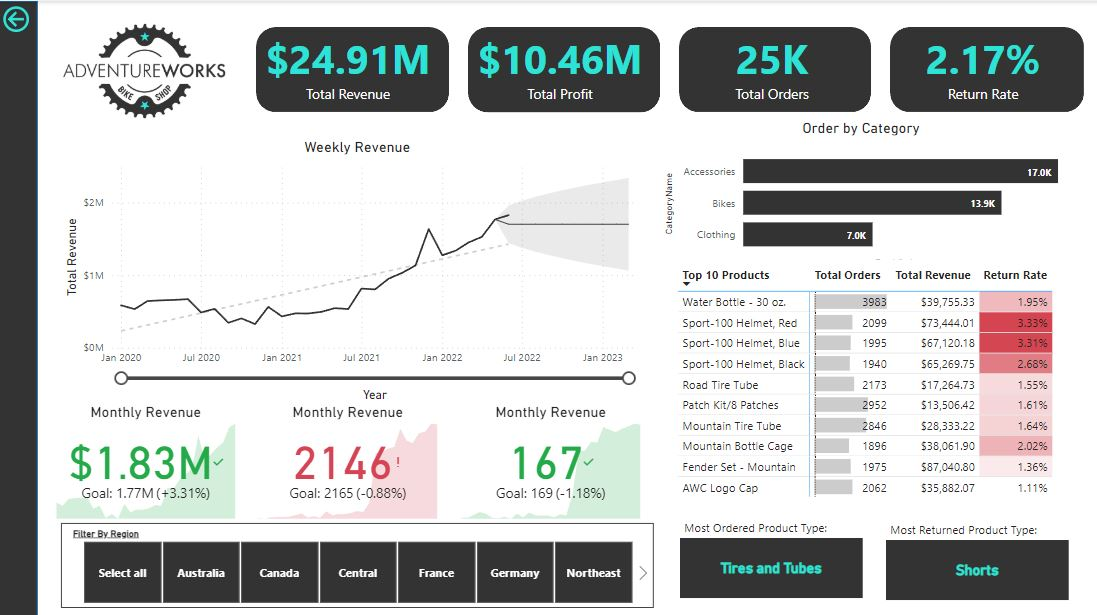

The dashboard page shown, as its layout file describes it:
{"tool":"powerbi","page":{"name":"Exec Summary","canvas":[1280,720],"ordinal":0},"visuals":[{"type":"card","fields":{"Values":["AW_Sales_Fact.Total Revnue"]},"box":[290.3,1.4,233.1,150.2],"z":0,"group":"g2"},{"type":"image","title":"AW_LOGO","box":[49.1,11.4,242.3,140.6],"z":0},{"type":"group","id":"g1","title":"KPI background","box":[299.4,30.5,965.7,99.7],"z":0,"group":"g3"},{"type":"shape","box":[299.4,30.8,225.1,99.4],"z":0,"group":"g1"},{"type":"shape","title":"Left Nav background","box":[0,0,45,720],"z":1000},{"type":"group","id":"g2","title":"KPI Values","box":[290.3,1.4,973.9,150.2],"z":1000,"group":"g3"},{"type":"card","fields":{"Values":["AW_Sales_Fact.Total Orders"]},"box":[784.2,1.4,233.2,149.9],"z":1000,"group":"g2"},{"type":"shape","box":[1038.8,30.8,226.3,99.4],"z":1000,"group":"g1"},{"type":"actionButton","box":[0,1.4,100.1,40],"z":2000},{"type":"card","fields":{"Values":["AW_Sales_Fact.Total Profit"]},"box":[537.2,1.4,233.2,149.9],"z":2000,"group":"g2"},{"type":"shape","box":[792.8,30.8,224,99.4],"z":2000,"group":"g1"},{"type":"group","id":"g3","title":"KPIs","box":[290.3,1.4,975.4,150.2],"z":3000},{"type":"card","fields":{"Values":["AW_Returns_Fact.Return Rate"]},"box":[1031.1,1.4,233.1,150.2],"z":3000,"group":"g2"},{"type":"shape","box":[546.6,30.5,224.2,99.6],"z":3000,"group":"g1"},{"type":"barChart","title":"Order by Category","fields":{"Category":["AW_Product_Categories.CategoryName"],"Y":["AW_Sales_Fact.Total Orders"]},"box":[770.9,137.3,469.1,178.8],"z":4000},{"type":"lineChart","title":"Weekly Revenue ","fields":{"Y":["AW_Sales_Fact.Total Revenue"],"Category":["AW_Calendar_Lookup.Start of Month.Variation.Date Hierarchy.Year","AW_Calendar_Lookup.Start of Month.Variation.Date Hierarchy.Quarter","AW_Calendar_Lookup.Start of Month.Variation.Date Hierarchy.Month","AW_Calendar_Lookup.Start of Month.Variation.Date Hierarchy.Day"]},"box":[71.9,159.3,690.7,311.5],"z":5000},{"type":"kpi","title":"Monthly Revenue","fields":{"Indicator":["AW_Sales_Fact.Total Revenue"],"TrendLine":["AW_Calendar_Lookup.Start of Month"],"Goal":["AW_Returns_Fact.Previous Month Revenue"]},"box":[61.6,468.7,218.8,140.2],"z":6000},{"type":"kpi","title":"Monthly Revenue","fields":{"TrendLine":["AW_Calendar_Lookup.Start of Month"],"Indicator":["AW_Sales_Fact.Total Orders"],"Goal":["AW_Sales_Fact.Previous Month Orders"]},"box":[297.6,468.7,218.8,140.2],"z":7000},{"type":"kpi","title":"Monthly Revenue","fields":{"TrendLine":["AW_Calendar_Lookup.Start of Month"],"Indicator":["Sum(AW_Returns_Fact.ReturnQuantity)"],"Goal":["AW_Returns_Fact.Previous Month Returns"]},"box":[533.6,468.7,218.8,140.2],"z":8000},{"type":"pivotTable","fields":{"Rows":["AW_Products_Lookup.ProductName"],"Values":["AW_Sales_Fact.Total Orders","AW_Sales_Fact.Total Revenue","AW_Returns_Fact.Return Rate"]},"box":[786.9,302.5,463.6,287.7],"z":9000},{"type":"card","fields":{"Values":["Min(AW_SubCategory_lookup.SubcategoryName)"]},"box":[794.3,625.9,212.7,70.1],"z":10000},{"type":"textbox","box":[794.3,600,207.8,34.4],"z":11000},{"type":"card","fields":{"Values":["Min(AW_SubCategory_lookup.SubcategoryName)"]},"box":[1034.2,628.5,212.7,70.1],"z":12000},{"type":"textbox","box":[1034.2,602.7,207.8,34.4],"z":13000},{"type":"slicer","fields":{"Values":["AW_Territories_Lookup.Region"]},"box":[71.9,608.9,690.6,99.1],"z":14000}]}

Visuals, with their boxes on the page's 1280x720 design canvas (x1, y1, x2, y2). These are canvas units, not pixel positions in the 1097x615 screenshot, which may show the page scaled, cropped or inside an application window:
card - AW_Sales_Fact.Total Revnue: 290,1,523,152
"AW_LOGO" image: 49,11,291,152
"KPI background" group: 299,30,1265,130
shape: 299,31,524,130
"Left Nav background" shape: 0,0,45,720
"KPI Values" group: 290,1,1264,152
card - AW_Sales_Fact.Total Orders: 784,1,1017,151
shape: 1039,31,1265,130
actionButton: 0,1,100,41
card - AW_Sales_Fact.Total Profit: 537,1,770,151
shape: 793,31,1017,130
"KPIs" group: 290,1,1266,152
card - AW_Returns_Fact.Return Rate: 1031,1,1264,152
shape: 547,30,771,130
"Order by Category" barChart: 771,137,1240,316
"Weekly Revenue " lineChart: 72,159,763,471
"Monthly Revenue" kpi: 62,469,280,609
"Monthly Revenue" kpi: 298,469,516,609
"Monthly Revenue" kpi: 534,469,752,609
pivotTable - AW_Products_Lookup.ProductName x AW_Sales_Fact.Total Orders: 787,302,1250,590
card - Min(AW_SubCategory_lookup.SubcategoryName): 794,626,1007,696
textbox: 794,600,1002,634
card - Min(AW_SubCategory_lookup.SubcategoryName): 1034,628,1247,699
textbox: 1034,603,1242,637
slicer - AW_Territories_Lookup.Region: 72,609,762,708
